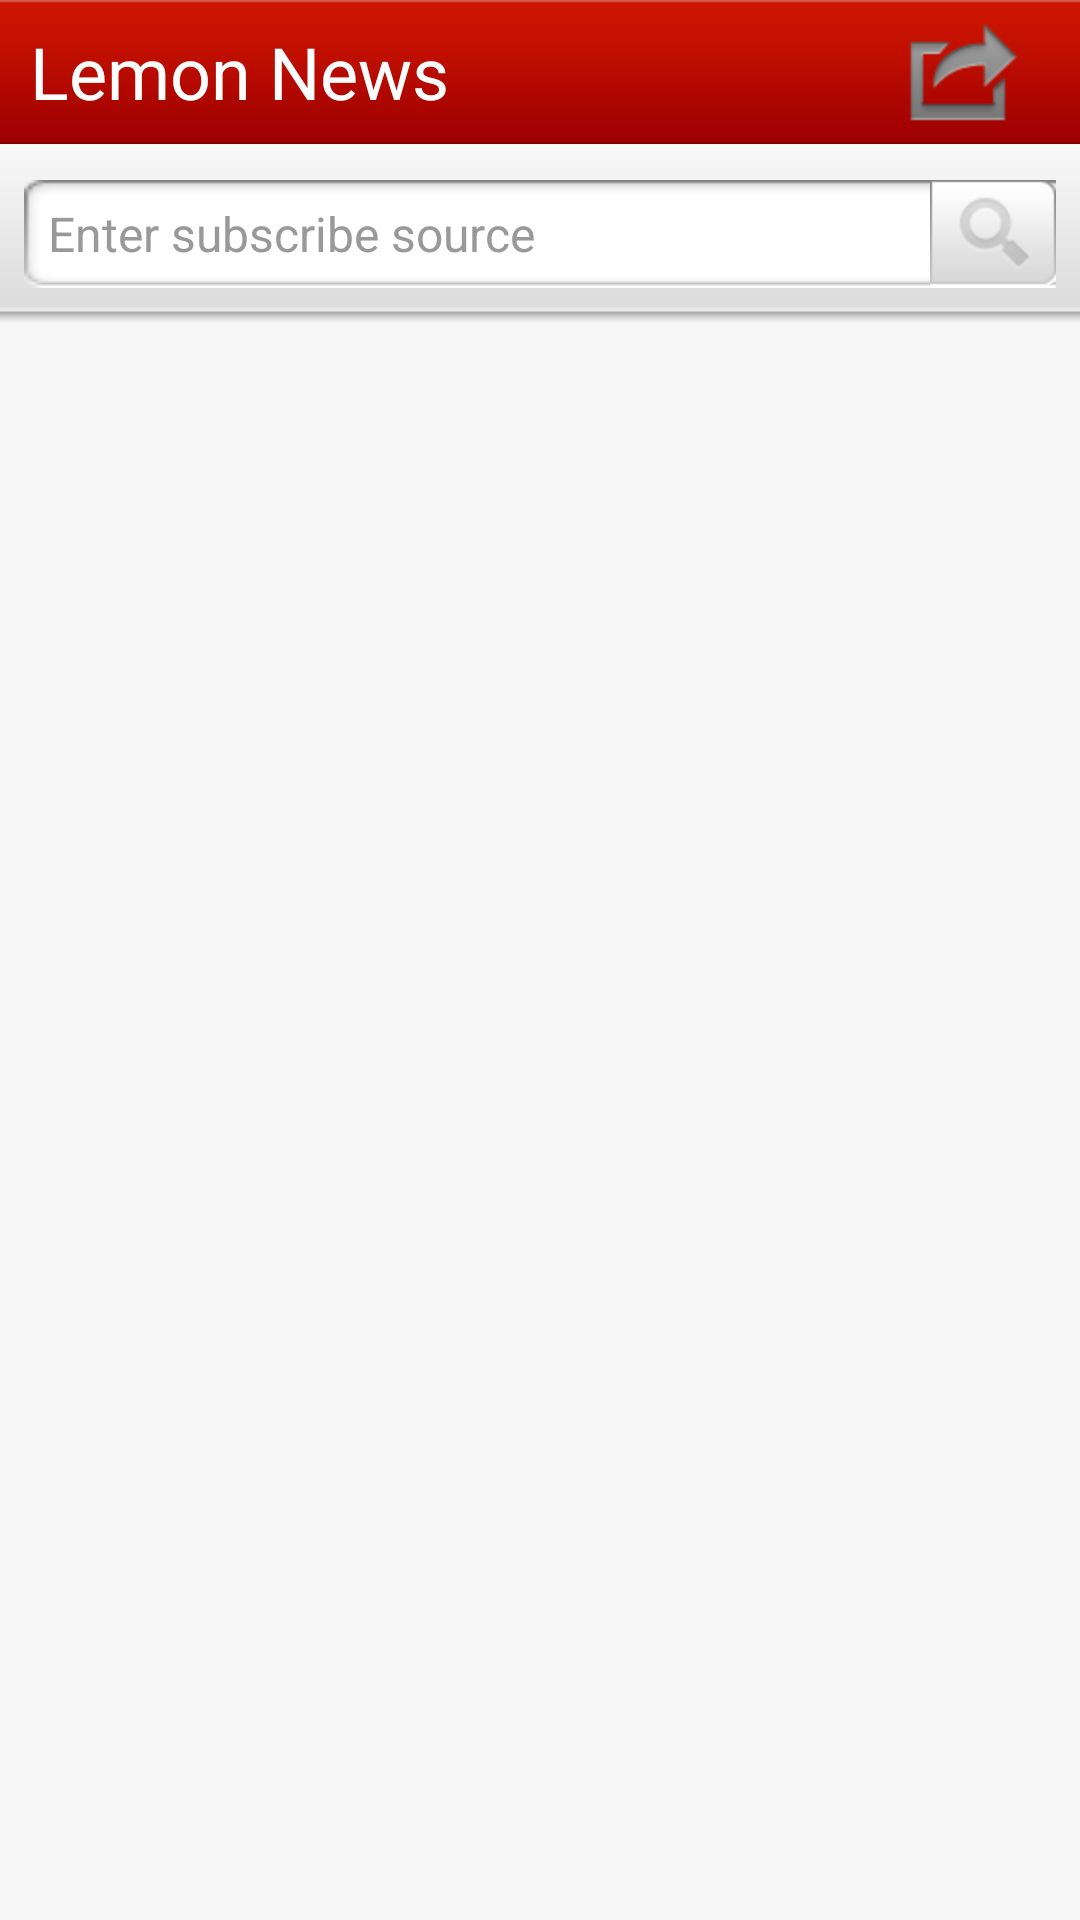

Named icons in this screenshot (1080 × 1920) and their centers, [x,y]:
forward: [963,72]
